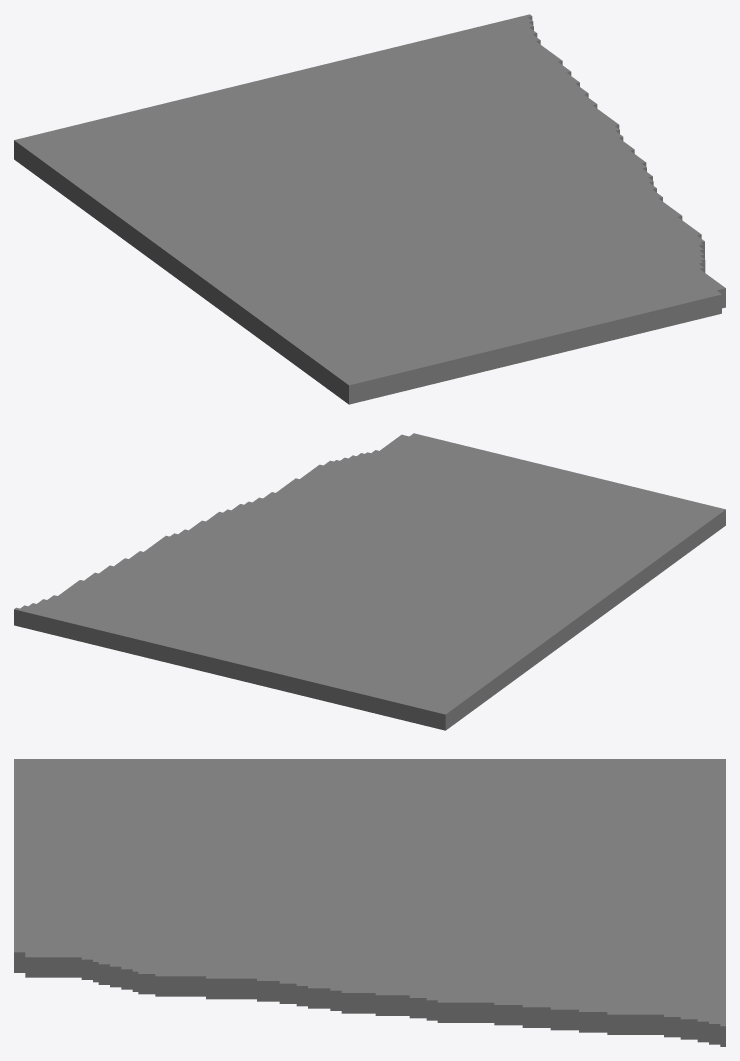
The model's file is Main Island-5.obj.
3 views of the same model, one above another, from view 1: azimuth 30°, elevation 25°; view 2: azimuth 150°, elevation 25°; view 3: azimuth 270°, elevation 25° (orthographic). The views are drawn at different scales.
Visible parts, largest first — view 1: Main Island-5; view 2: Main Island-5; view 3: Main Island-5.
Part boxes in pixels (<box>): Main Island-5: <box>14,14,725,404</box>; Main Island-5: <box>14,433,725,730</box>; Main Island-5: <box>14,759,725,1046</box>.
Bounding box in the file's own units: 112 × 4 × 126.
1 material, 1 textured.
